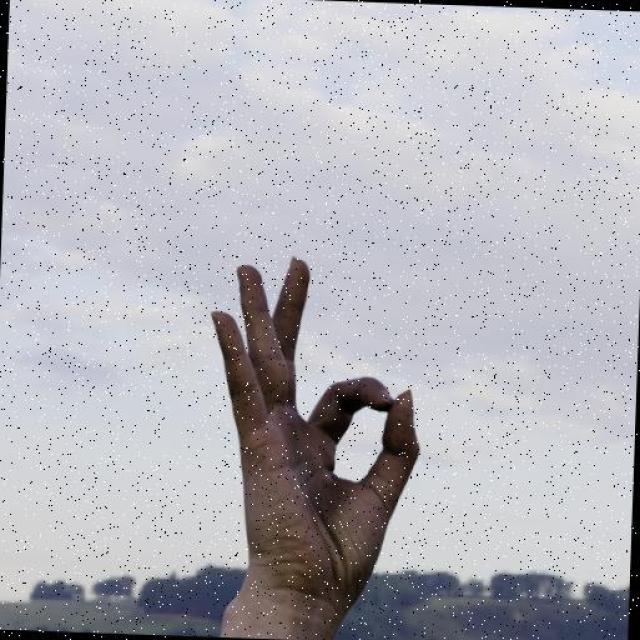F: (198, 245, 437, 609)
